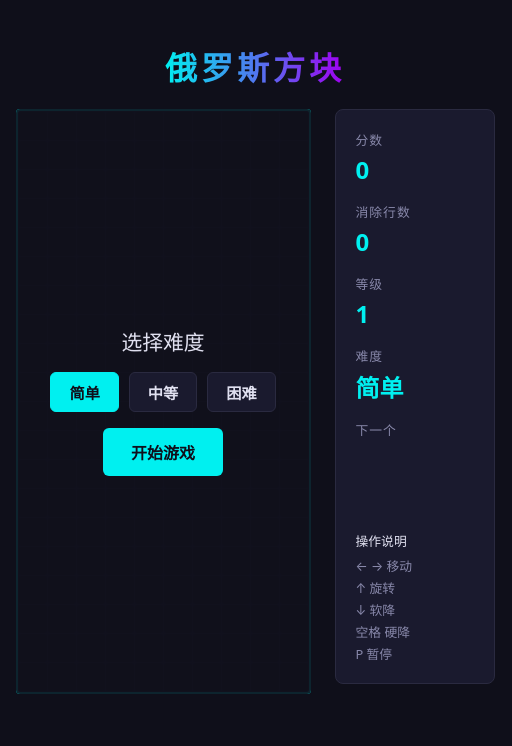
Test: App 集成测试 › 点击开始后隐藏覆盖层并显示暂停按钮
Step 1. Click the button "开始游戏" → [163, 452], box [103,428,223,476]
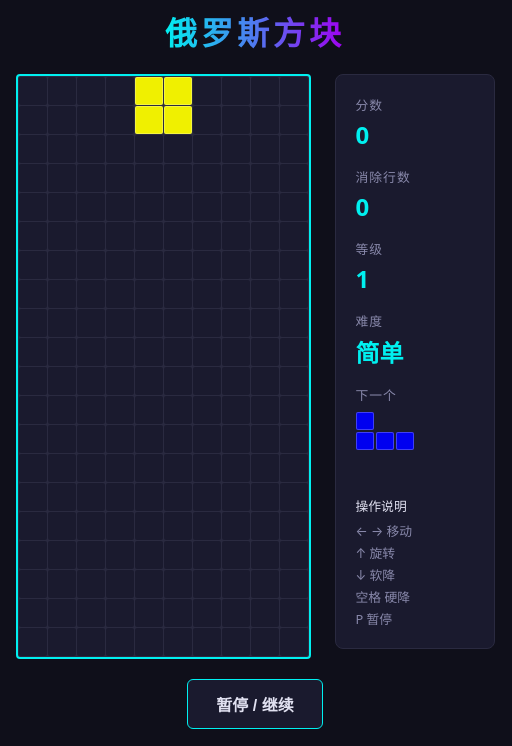
Expected: the element with test id "overlay-idle" is gone
Expected: the button "暂停 / 继续" is shown, [187,678,323,728]
